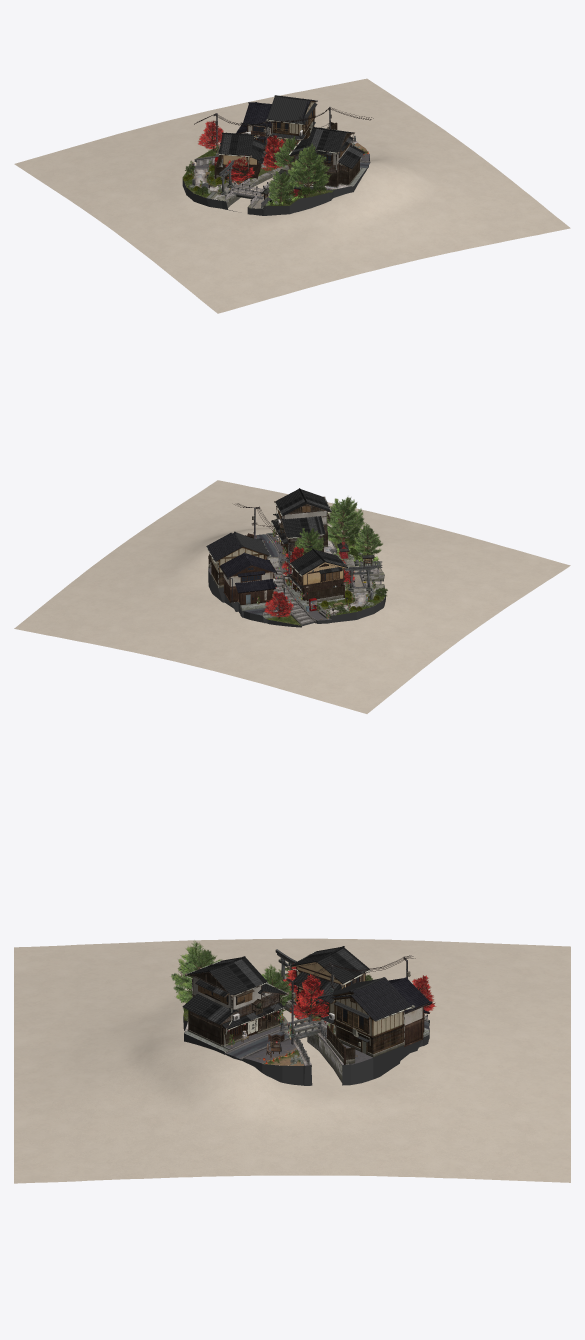
File: kyoto-meshopt.glb
3 renders of one model, top to bottom at view 1: azimuth 30°, elevation 25°; view 2: azimuth 150°, elevation 25°; view 3: azimuth 270°, elevation 25°, orthographic. The views are drawn at different scales.
Size of the model in its own units: 32.95 by 22.67 by 32.95.
Materials: 63 (58 with a texture image).
